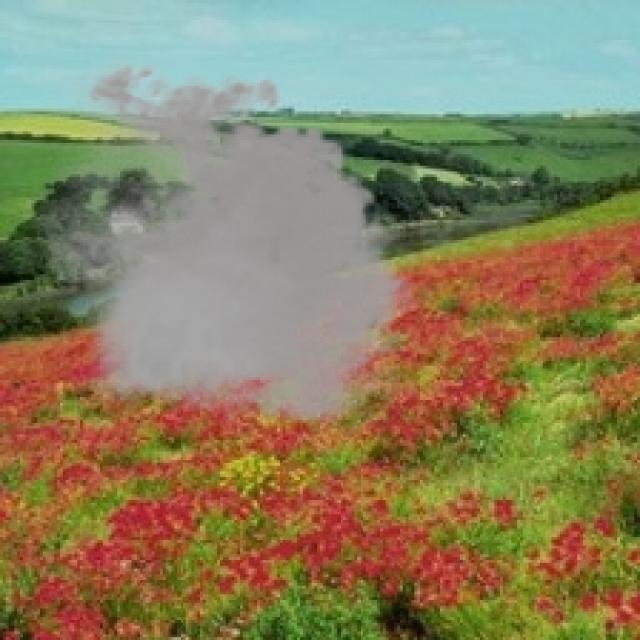Smoke: (22, 52, 428, 437)
